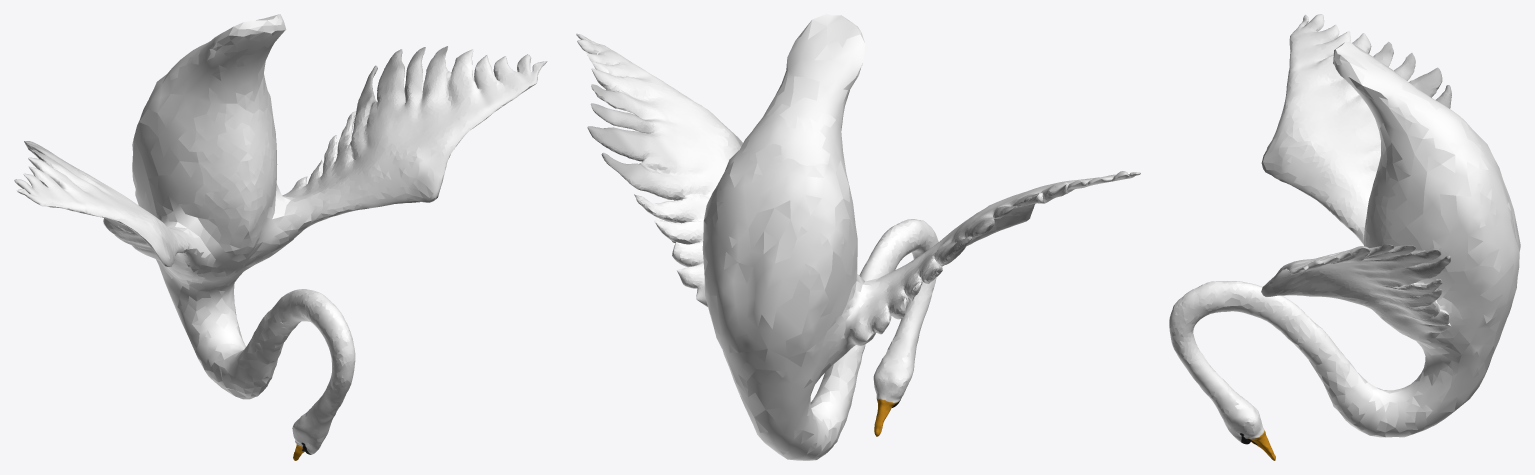
Rendered from swan.glb.
3 views of the same model, side by side, from view 1: azimuth 30°, elevation 25°; view 2: azimuth 150°, elevation 25°; view 3: azimuth 270°, elevation 25° (orthographic). The views are drawn at different scales.
Visible parts, largest first — view 1: Object_23, Object_4.003, Object_8, Object_19, Object_15, Object_7.001, Object_2.002, Object_24, Object_5, Object_3, Object_20, Object_13 (+10 smaller); view 2: Object_23, Object_24, Object_15, Object_8, Object_4.003, Object_2.002, Object_7.001, Object_22, Object_18, Object_6, Object_17, Object_12 (+10 smaller); view 3: Object_23, Object_4.003, Object_8, Object_24, Object_15, Object_7.001, Object_19, Object_2.002, Object_25, Object_5, Object_9, Object_10 (+11 smaller).
Boxes of the visible parts, left/top/right/bottom form: Object_23: left=132, top=27, right=429, bottom=397; Object_4.003: left=122, top=125, right=444, bottom=399; Object_8: left=49, top=74, right=462, bottom=449; Object_19: left=28, top=14, right=529, bottom=296; Object_15: left=63, top=64, right=462, bottom=281; Object_7.001: left=30, top=48, right=443, bottom=390; Object_2.002: left=143, top=19, right=466, bottom=262; Object_24: left=132, top=32, right=276, bottom=213; Object_5: left=27, top=47, right=464, bottom=256; Object_3: left=27, top=55, right=537, bottom=460; Object_20: left=14, top=49, right=547, bottom=206; Object_13: left=178, top=14, right=284, bottom=161; Object_23: left=702, top=20, right=878, bottom=460; Object_24: left=703, top=19, right=856, bottom=443; Object_15: left=612, top=78, right=1048, bottom=363; Object_8: left=623, top=81, right=1065, bottom=459; Object_4.003: left=664, top=104, right=1031, bottom=458; Object_2.002: left=662, top=16, right=1026, bottom=274; Object_7.001: left=593, top=103, right=1046, bottom=367; Object_22: left=589, top=127, right=994, bottom=345; Object_18: left=590, top=126, right=994, bottom=345; Object_6: left=594, top=132, right=982, bottom=304; Object_17: left=587, top=126, right=994, bottom=302; Object_12: left=591, top=126, right=993, bottom=345; Object_23: left=1292, top=43, right=1520, bottom=437; Object_4.003: left=1224, top=107, right=1512, bottom=437; Object_8: left=1171, top=64, right=1458, bottom=434; Object_24: left=1350, top=57, right=1513, bottom=412; Object_15: left=1274, top=73, right=1467, bottom=349; Object_7.001: left=1169, top=54, right=1413, bottom=367; Object_19: left=1261, top=22, right=1424, bottom=353; Object_2.002: left=1263, top=42, right=1510, bottom=291; Object_25: left=1169, top=294, right=1267, bottom=445; Object_5: left=1301, top=43, right=1415, bottom=308; Object_9: left=1306, top=53, right=1415, bottom=327; Object_10: left=1276, top=41, right=1415, bottom=318.
Size of the model in its own units: 4.34 by 3.27 by 2.52.
Materials: 24 (24 with a texture image).
